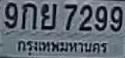2: (78, 4, 92, 30)
7: (64, 3, 76, 30)
9: (4, 1, 17, 28), (110, 5, 122, 31), (94, 5, 106, 30)
A01: (21, 2, 36, 29)
A34: (40, 3, 56, 29)
BKK: (15, 38, 108, 55)
